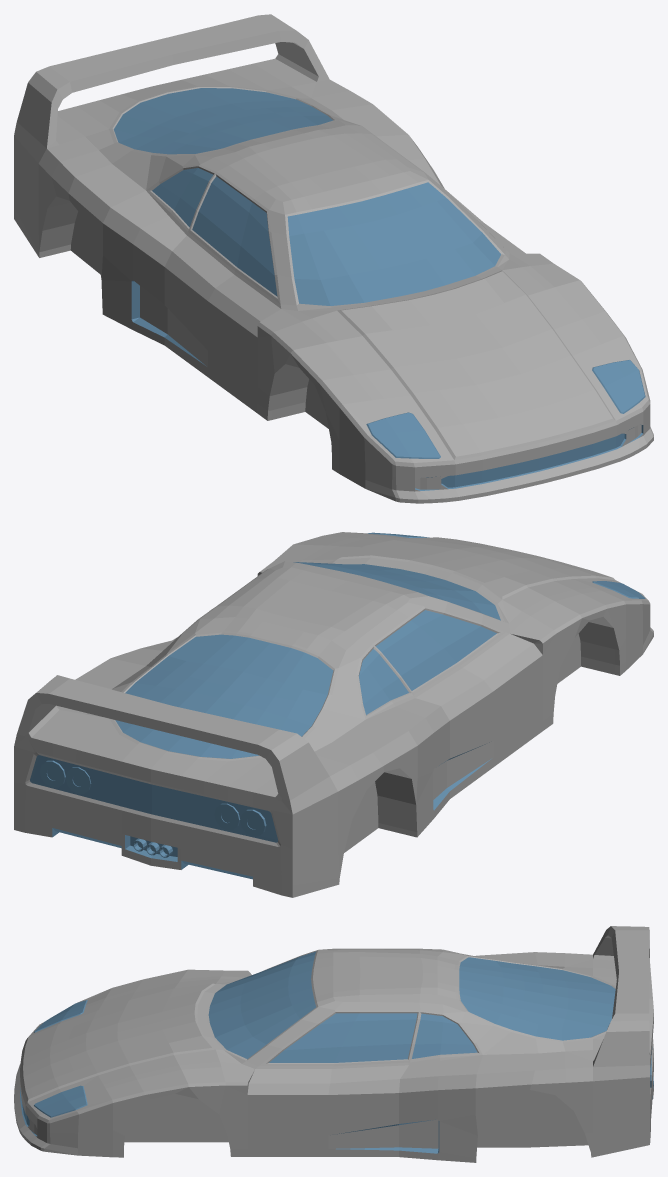
The picture shows the model from 3 angles, top to bottom: view 1: azimuth 30°, elevation 25°; view 2: azimuth 150°, elevation 25°; view 3: azimuth 270°, elevation 25°; orthographic projection. The views are drawn at different scales.
Visible parts, largest first — view 1: GT30; view 2: GT30; view 3: GT30.
Boxes of the visible parts, box(x1,y1,x2,y2) form: GT30: box(14, 14, 653, 503); GT30: box(14, 532, 653, 897); GT30: box(14, 926, 653, 1162).
Size of the model in its own units: 162 by 77.45 by 350.
